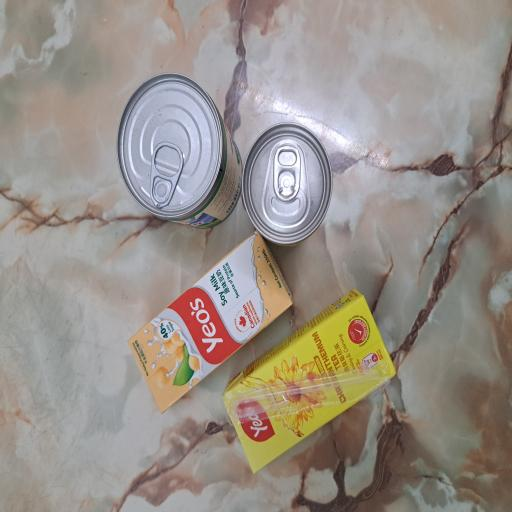can: (213, 155, 329, 324), (199, 323, 292, 443)
drink carton: (74, 169, 210, 391), (30, 293, 167, 512)
pop tab: (228, 199, 278, 245), (233, 364, 276, 401)
